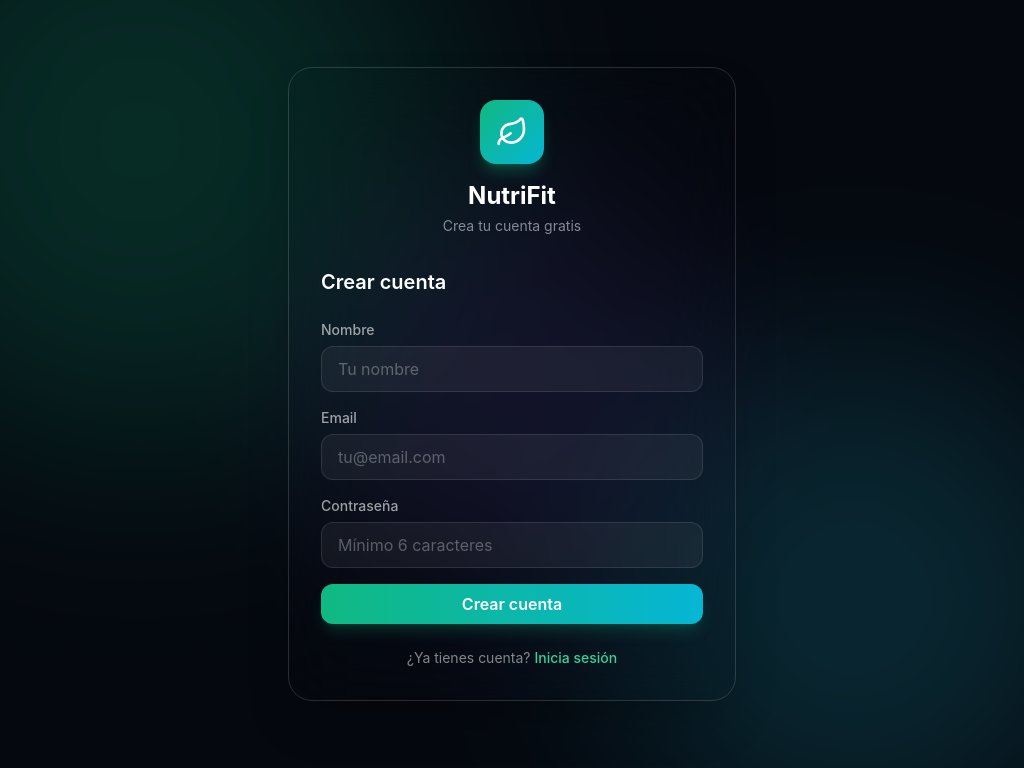
Register page › shows client-side error when password is shorter than 6 characters
Type "Ana" into the field labelled "Nombre".
click(512, 369); type("Ana")  # box [321,346,703,392]
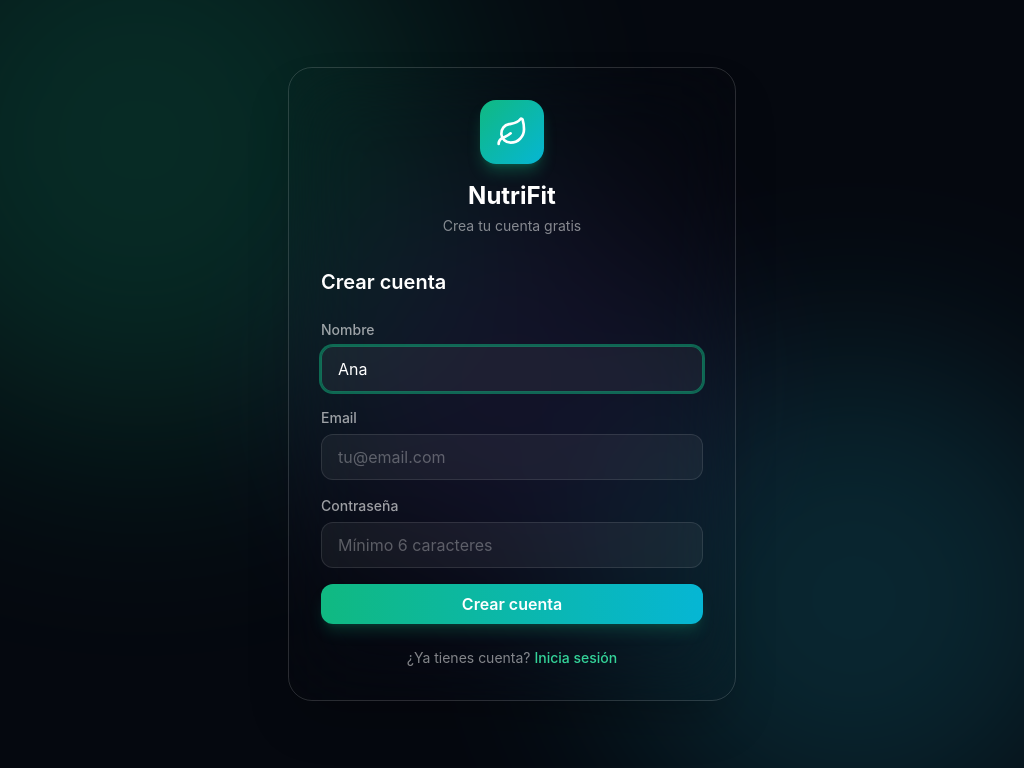
Type "ana@example.com" into the field labelled "Email".
click(512, 457); type("ana@example.com")  # box [321,434,703,480]
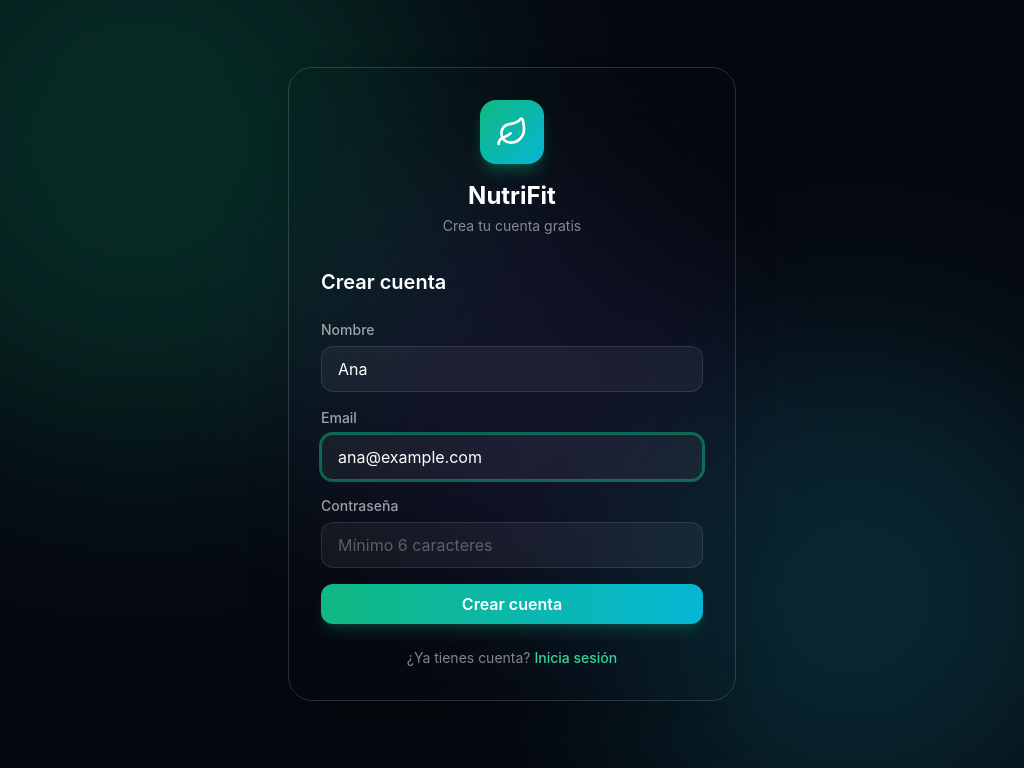
Type "123" into the password field labelled "Contraseña".
click(512, 545); type("123")  # box [321,522,703,568]
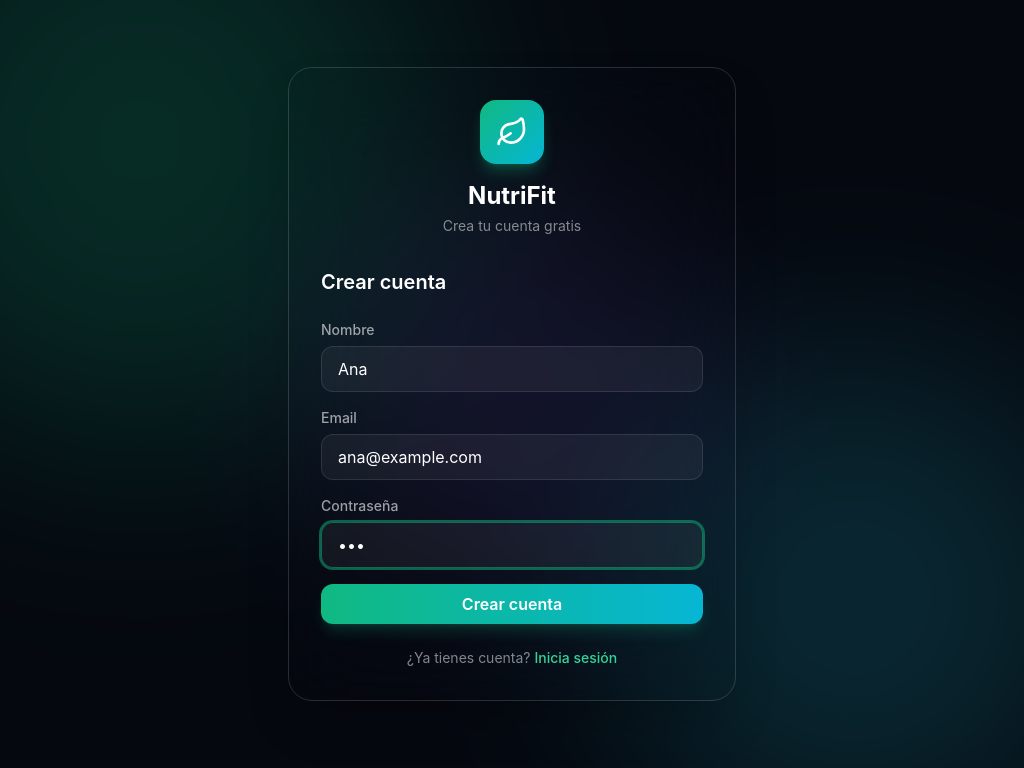
Click the button "Crear cuenta".
click(512, 604)  # box [321,584,703,624]
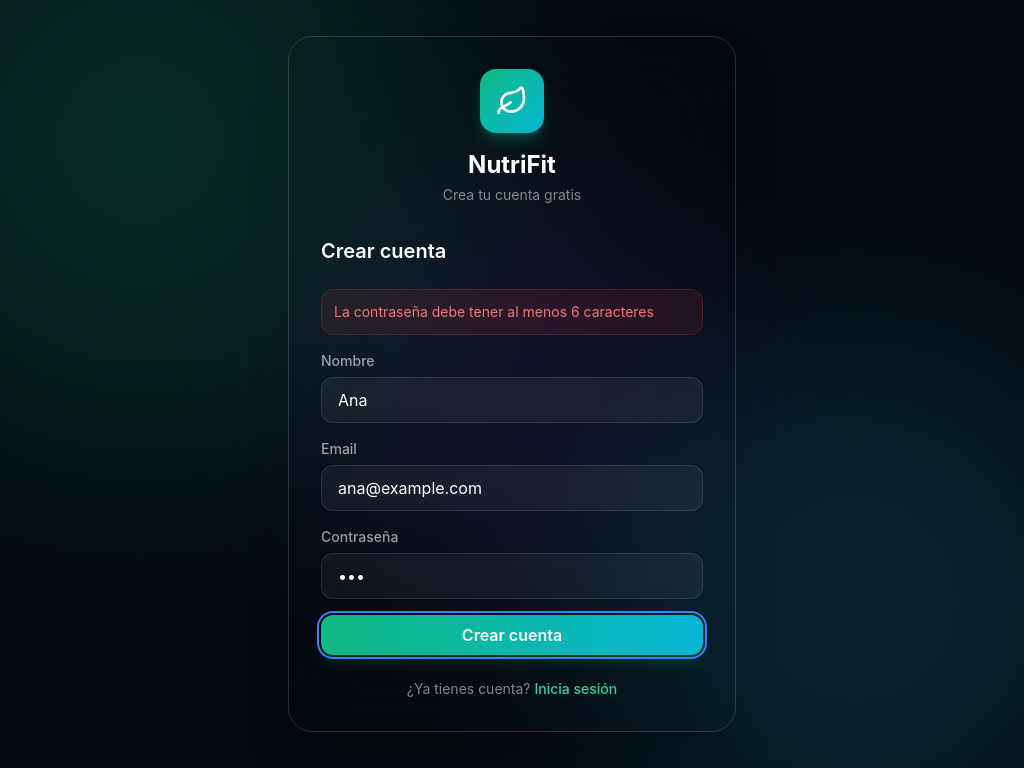
Now the text "La contraseña debe tener al menos 6 caracteres" is shown, box [321,289,703,335]
